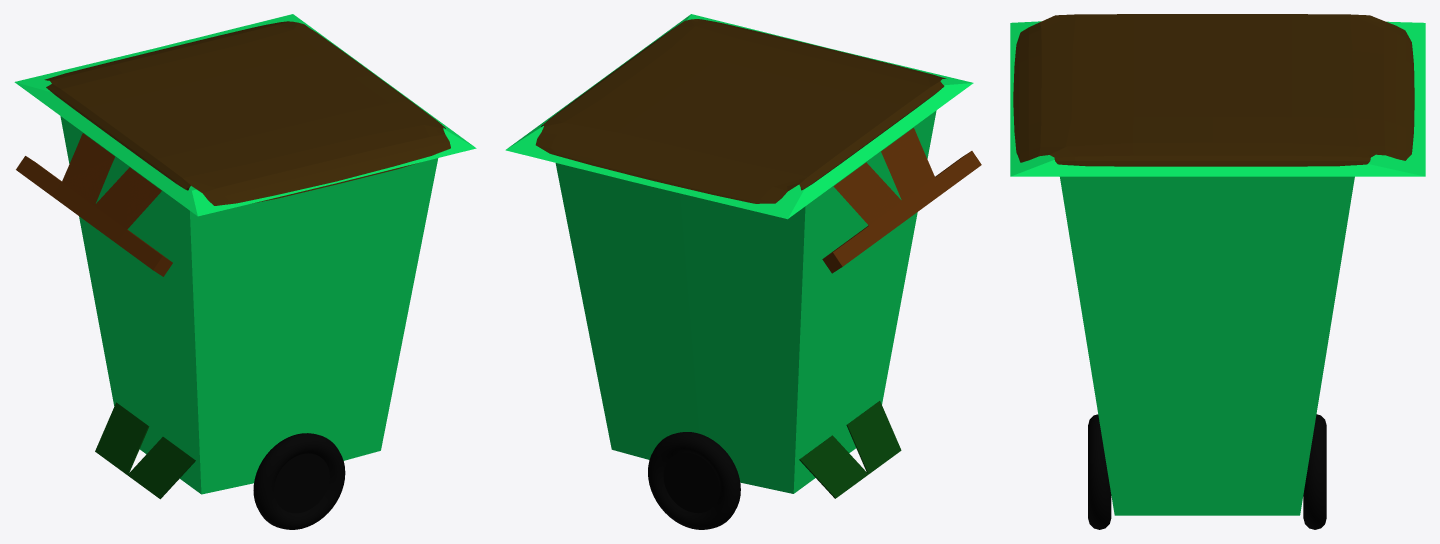
Rendered from Trash_can.fbx.
3 renders of one model, left to right at view 1: azimuth 30°, elevation 25°; view 2: azimuth 150°, elevation 25°; view 3: azimuth 270°, elevation 25°, orthographic. The views are drawn at different scales.
Parts seen in each view (by area): view 1: Trash can; view 2: Trash can; view 3: Trash can.
Boxes of the visible parts, <box> form: Trash can: <box>14,14,476,529</box>; Trash can: <box>505,14,981,529</box>; Trash can: <box>1010,14,1425,529</box>.
Size of the model in its own units: 52.86 by 64.45 by 55.1.
